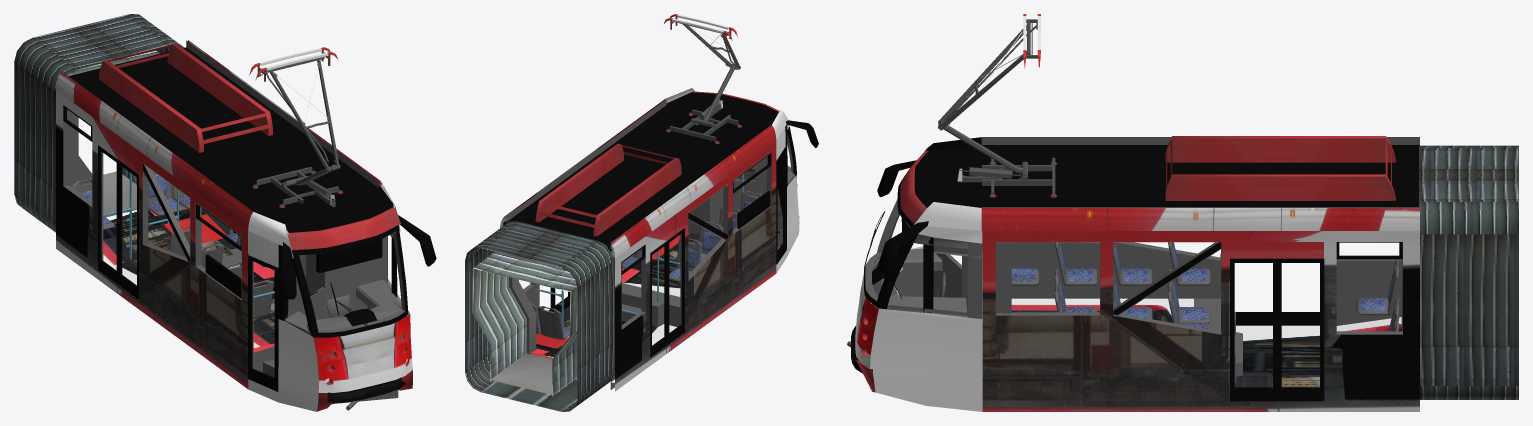
File: lvs2009aduo.obj
3 views of the same model, side by side, from view 1: azimuth 30°, elevation 25°; view 2: azimuth 150°, elevation 25°; view 3: azimuth 270°, elevation 25° (orthographic). The views are drawn at different scales.
Parts seen in each view (by area): view 1: kuzov_Object_2.002, Object_7, Object_1.002, Object_10, Object_8_Object_8.001, Object_9.001, Object_1.001, Object_6.001, pantograph_Kuzov.002, door0_Object_1, Object_6.002_Object_6.008, Object_12 (+7 smaller); view 2: kuzov_Object_2.002, Object_7, Object_1.002, Object_2, Object_8_Object_8.001, Object_10, Object_6.001, Object_1.001, pantograph_Kuzov.002, Object_9.001, Object_3.001, Object_6.002_Object_6.008 (+6 smaller); view 3: kuzov_Object_2.002, Object_1.002, Object_7, Object_10, Object_6.001, Object_8_Object_8.001, Object_1.001, pantograph_Kuzov.002, Object_9.001, door1l_Object_3.002, door2l_Object_5.002, Object_12 (+3 smaller).
Boxes of the visible parts, bbox=[...] form: kuzov_Object_2.002: bbox=[56, 40, 412, 411]; Object_7: bbox=[68, 47, 436, 320]; Object_1.002: bbox=[14, 14, 184, 232]; Object_10: bbox=[98, 43, 412, 411]; Object_8_Object_8.001: bbox=[64, 40, 406, 404]; Object_9.001: bbox=[63, 105, 408, 402]; Object_1.001: bbox=[103, 206, 274, 352]; Object_6.001: bbox=[63, 109, 391, 300]; pantograph_Kuzov.002: bbox=[249, 47, 343, 207]; door0_Object_1: bbox=[248, 255, 278, 391]; Object_6.002_Object_6.008: bbox=[166, 225, 273, 318]; Object_12: bbox=[284, 279, 403, 335]; kuzov_Object_2.002: bbox=[500, 88, 799, 391]; Object_7: bbox=[503, 92, 818, 252]; Object_1.002: bbox=[465, 221, 613, 411]; Object_2: bbox=[472, 252, 577, 396]; Object_8_Object_8.001: bbox=[505, 99, 794, 326]; Object_10: bbox=[535, 91, 799, 236]; Object_6.001: bbox=[509, 152, 771, 389]; Object_1.001: bbox=[531, 165, 755, 382]; pantograph_Kuzov.002: bbox=[664, 14, 742, 143]; Object_9.001: bbox=[621, 125, 796, 274]; Object_3.001: bbox=[489, 353, 577, 394]; Object_6.002_Object_6.008: bbox=[669, 190, 761, 281]; kuzov_Object_2.002: bbox=[855, 144, 1419, 411]; Object_1.002: bbox=[1419, 145, 1518, 399]; Object_7: bbox=[877, 137, 1419, 309]; Object_10: bbox=[856, 136, 1395, 392]; Object_6.001: bbox=[934, 242, 1402, 400]; Object_8_Object_8.001: bbox=[865, 137, 1419, 389]; Object_1.001: bbox=[894, 266, 1401, 399]; pantograph_Kuzov.002: bbox=[938, 14, 1057, 197]; Object_9.001: bbox=[851, 182, 1402, 373]; door1l_Object_3.002: bbox=[1230, 258, 1277, 401]; door2l_Object_5.002: bbox=[1277, 258, 1324, 401]; Object_12: bbox=[873, 248, 966, 315].
Bounding box in the file's own units: 2.85 × 5.45 × 9.39.
Materials: 47 (42 with a texture image).
